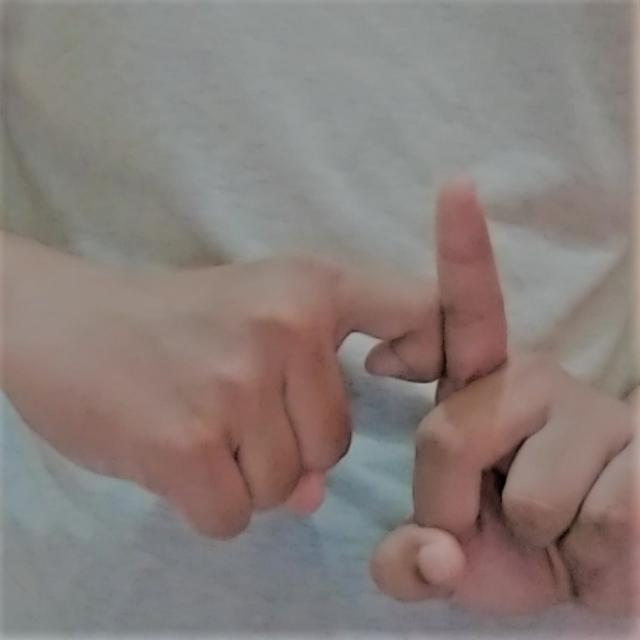K: (72, 162, 624, 626)
